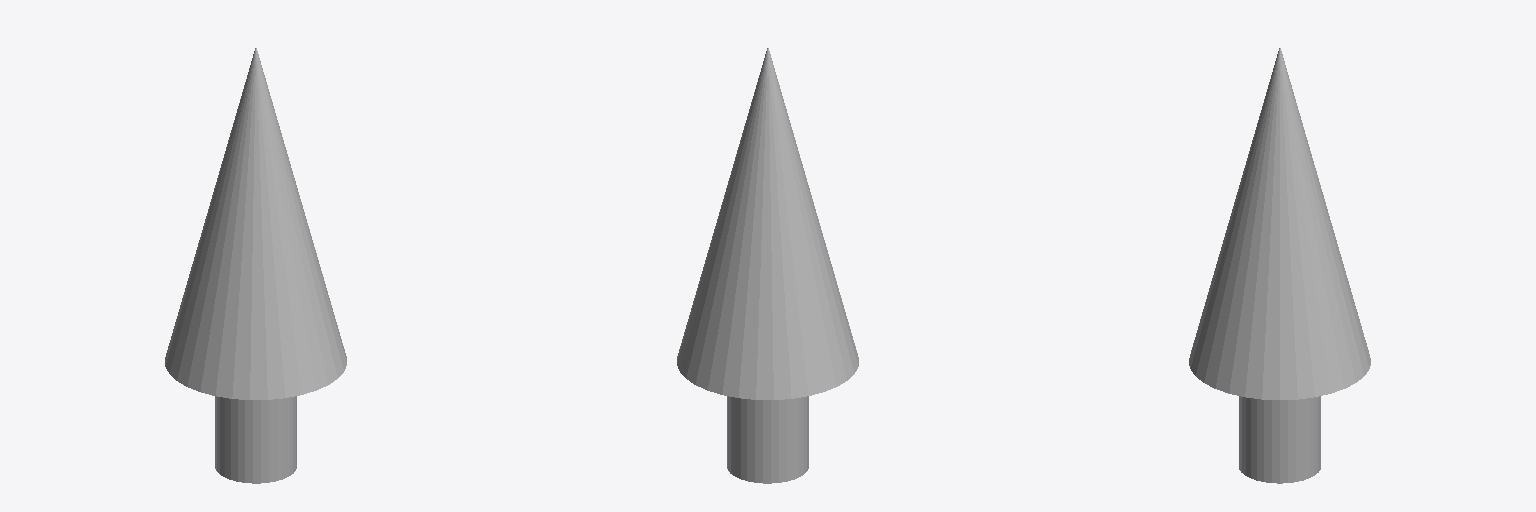
File: testTree.obj
3 renders of one model, left to right at view 1: azimuth 30°, elevation 25°; view 2: azimuth 150°, elevation 25°; view 3: azimuth 270°, elevation 25°, orthographic.
Visible parts, largest first — view 1: Cylinder; view 2: Cylinder; view 3: Cylinder.
Part boxes in pixels (x1,y1,x2,y2): Cylinder: (165, 48, 346, 483); Cylinder: (677, 48, 858, 483); Cylinder: (1189, 48, 1370, 483).
Bounding box in the file's own units: 1.88 × 4.78 × 1.88.